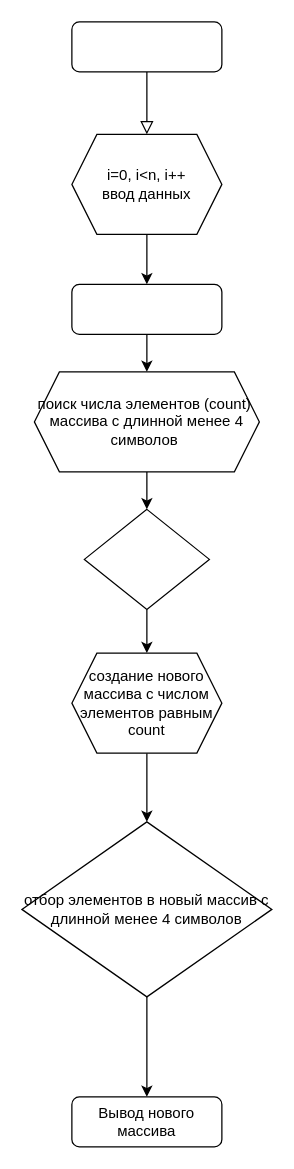
The diagram is 294 pixels wide and 1169 high, and some of its shapes have lost their labels. Here are the shapes that lost their labels. From the top down, the centre of each, then its label:
pixel 146 46: Введите количество строк n
pixel 146 308: вывод массива в консоль
pixel 146 558: count= число элементов
